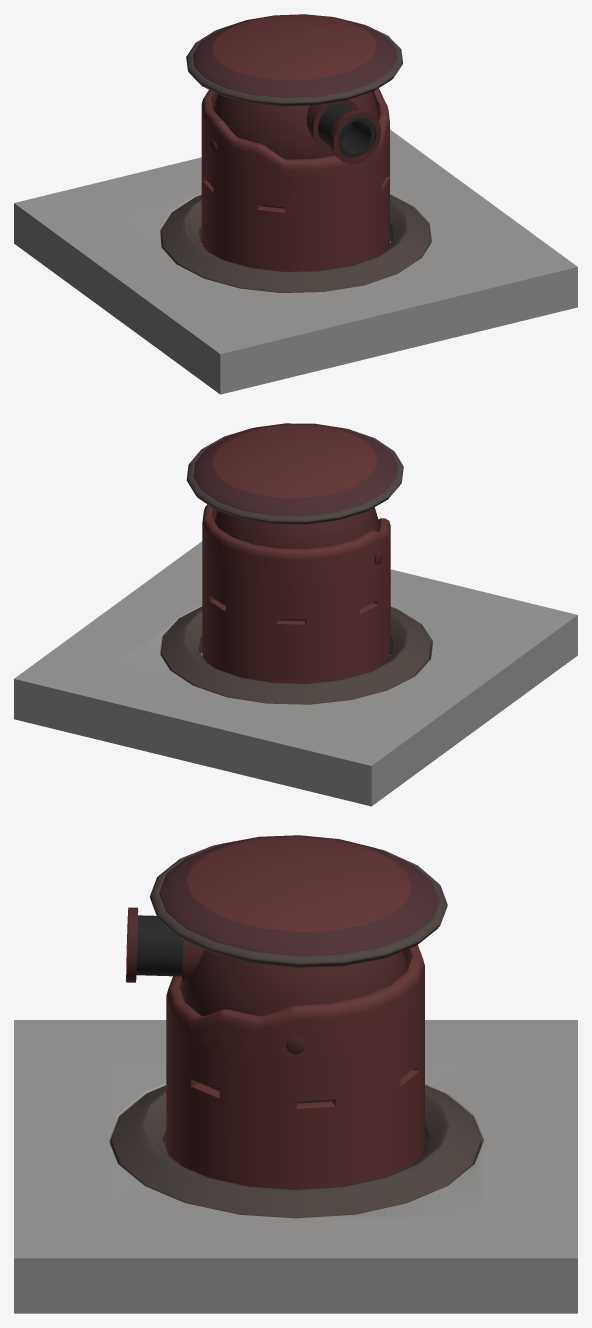
The model's file is Turret.fbx.
The picture shows the model from 3 angles, top to bottom: view 1: azimuth 30°, elevation 25°; view 2: azimuth 150°, elevation 25°; view 3: azimuth 270°, elevation 25°; orthographic projection. The views are drawn at different scales.
Visible parts, largest first — view 1: polySurface1, polySurface8, polySurface4, polySurface7; view 2: polySurface1, polySurface8, polySurface4; view 3: polySurface1, polySurface8, polySurface4, polySurface7.
Part boxes in pixels (x1,y1,x2,y2): polySurface1: (14,129,577,394); polySurface8: (201,88,389,271); polySurface4: (186,14,402,159); polySurface7: (318,103,381,164); polySurface1: (14,541,577,806); polySurface8: (202,504,390,683); polySurface4: (186,423,403,549); polySurface1: (14,1020,577,1313); polySurface8: (166,945,424,1189); polySurface4: (150,835,447,1016); polySurface7: (126,907,183,982).
Bounding box in the file's own units: 11.47 × 7.24 × 11.47.
